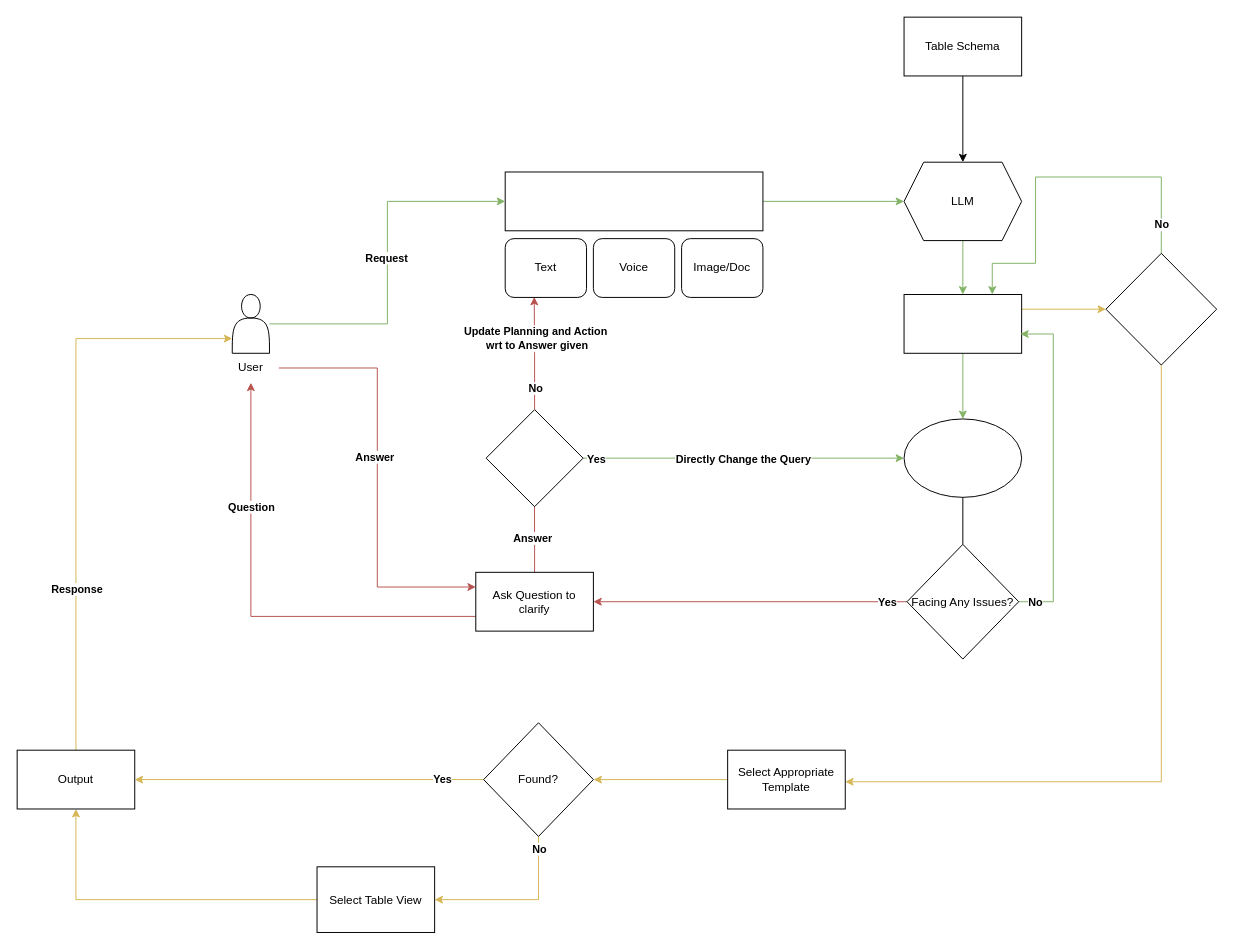
The diagram is 1234 pixels wide and 950 high, and some of its shapes have lost their labels. Here are the shapes that lost their labels. From the top down, the box of each, then its label:
(504, 171, 763, 231): Input
(903, 294, 1022, 353): Planning And Action
(1105, 252, 1217, 365): Actions Finished?
(485, 409, 583, 507): Direct Answer
(903, 418, 1022, 497): Run SQL Query
